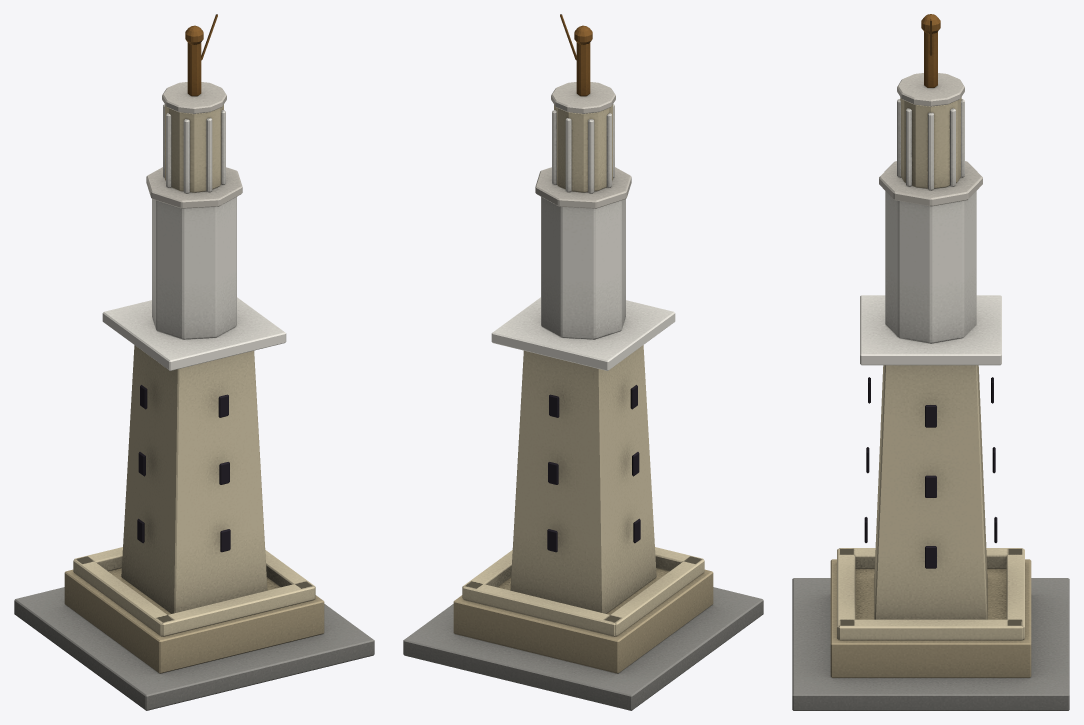
File: faros.glb
The picture shows the model from 3 angles, left to right: view 1: azimuth 30°, elevation 25°; view 2: azimuth 150°, elevation 25°; view 3: azimuth 270°, elevation 25°; orthographic projection. The views are drawn at different scales.
Parts seen in each view (by area): view 1: faros; view 2: faros; view 3: faros.
Part boxes in pixels (<box>): faros: <box>14,14,374,710</box>; faros: <box>403,14,763,710</box>; faros: <box>792,14,1069,710</box>.
Size of the model in its own units: 1.8 by 4.62 by 1.8.
3 materials, 1 textured.
